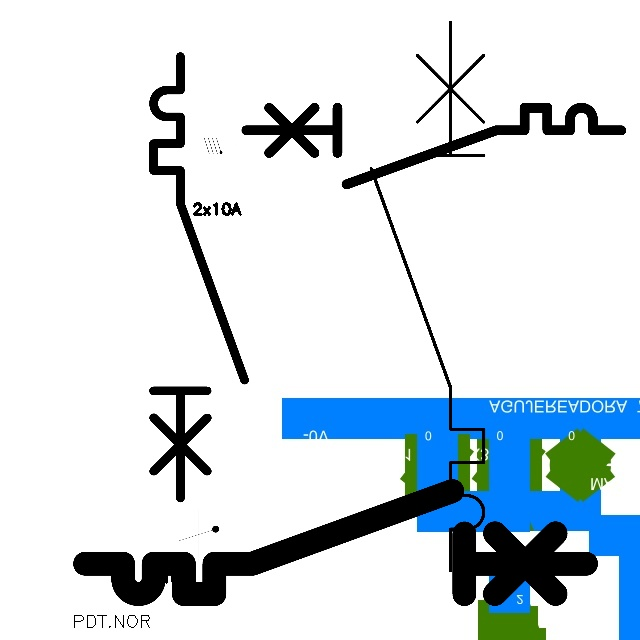interruptor_termomagnetico: (357, 8, 498, 585), (72, 478, 599, 607), (142, 45, 255, 510), (236, 98, 630, 194)
